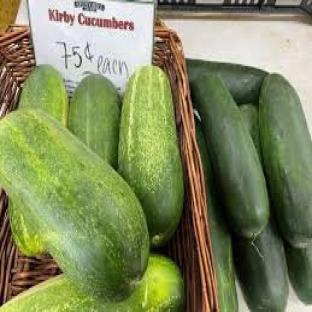Cucumber: (0, 110, 149, 300), (193, 76, 269, 236), (119, 66, 184, 246), (0, 256, 184, 311), (259, 74, 311, 247), (197, 121, 238, 311), (233, 218, 289, 311), (69, 74, 121, 168), (187, 60, 267, 104), (20, 65, 68, 127), (285, 243, 311, 305), (240, 105, 262, 164)
